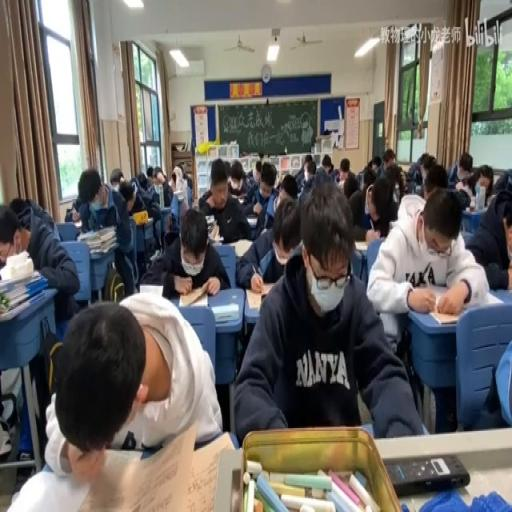calculator: (77, 422, 231, 510), (2, 466, 88, 512), (0, 289, 45, 320), (418, 281, 459, 313), (0, 266, 42, 294), (460, 286, 507, 307), (246, 283, 274, 310), (210, 302, 238, 322), (181, 288, 208, 306), (428, 308, 460, 322), (233, 236, 253, 258), (138, 283, 164, 296), (204, 213, 218, 235), (354, 240, 368, 252), (148, 248, 160, 260), (246, 215, 258, 226), (235, 194, 246, 204), (141, 216, 153, 225), (211, 235, 223, 243), (72, 219, 82, 228)
paper: (233, 181, 418, 441), (0, 198, 81, 459), (74, 168, 138, 297), (465, 177, 512, 288), (197, 159, 251, 243), (470, 322, 511, 428), (357, 171, 399, 240), (242, 158, 277, 232), (10, 196, 54, 240), (38, 328, 62, 394), (146, 164, 173, 206), (139, 253, 170, 287), (447, 149, 473, 188), (422, 164, 448, 199), (295, 158, 317, 193), (491, 171, 512, 203), (338, 158, 357, 190), (278, 173, 298, 202), (403, 165, 421, 195), (118, 182, 136, 208), (360, 165, 376, 189), (494, 200, 510, 224), (229, 164, 244, 188), (108, 168, 124, 189), (173, 195, 186, 220), (456, 185, 472, 205), (170, 165, 182, 189), (63, 205, 79, 222), (321, 154, 333, 175), (370, 154, 382, 174), (382, 146, 394, 166), (396, 169, 405, 195), (137, 170, 148, 190), (252, 158, 261, 182), (302, 154, 312, 168), (418, 154, 427, 169), (146, 164, 154, 180), (224, 159, 230, 178), (185, 174, 192, 189)
person: (384, 452, 470, 496), (260, 292, 266, 302)
